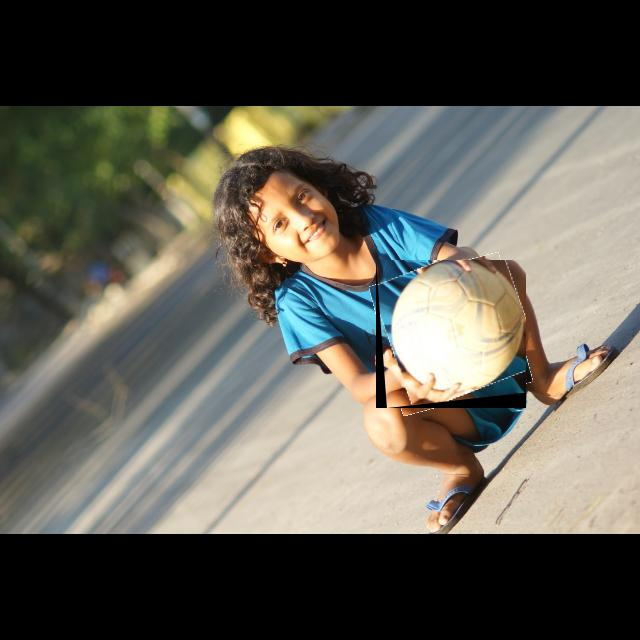Football: (376, 260, 526, 408)
